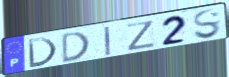2: (160, 13, 189, 48)
D: (26, 37, 59, 70), (61, 30, 91, 65)
I: (103, 25, 112, 57)
S: (192, 8, 223, 40)
Z: (126, 19, 158, 52)
